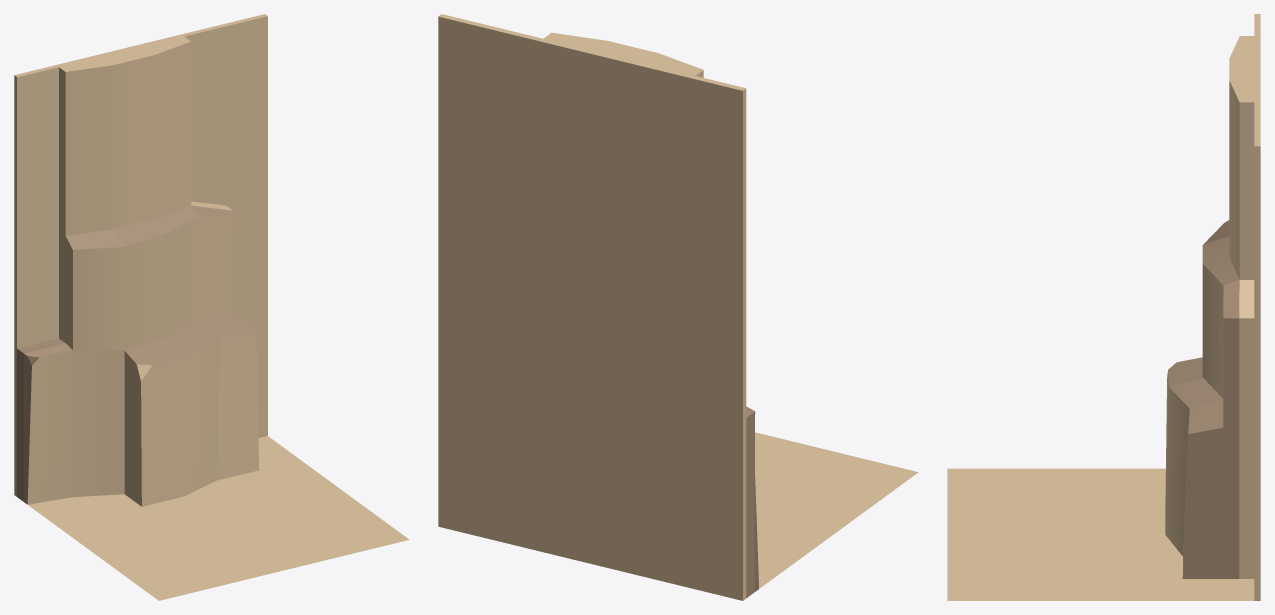
The model's file is WallEmpty.fbx.
3 views of the same model, side by side, from view 1: azimuth 30°, elevation 25°; view 2: azimuth 150°, elevation 25°; view 3: azimuth 270°, elevation 25° (orthographic). The views are drawn at different scales.
Parts seen in each view (by area): view 1: WallEmpty; view 2: WallEmpty; view 3: WallEmpty.
Boxes of the visible parts, <box> form: WallEmpty: <box>14,14,409,600</box>; WallEmpty: <box>438,14,918,600</box>; WallEmpty: <box>947,14,1260,600</box>.
Size of the model in its own units: 5 by 8 by 5.
